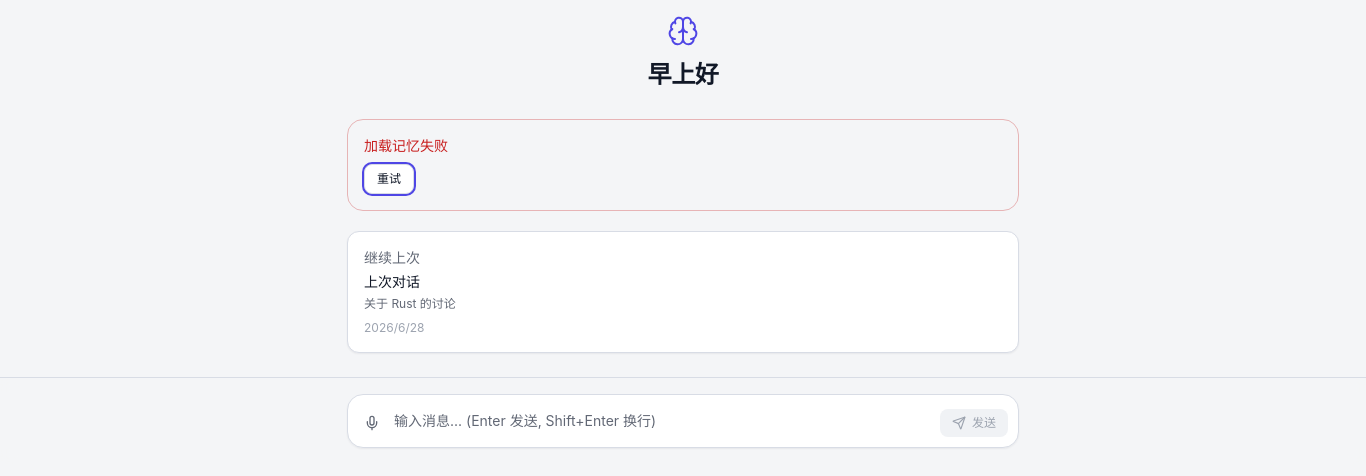
ChatHome › does not treat a failed insight read as an empty new user
Expected: the message with test id "chat-home-load-error" shows "加载记忆失败", [364,137,448,154]
Expected: the text "我还不太了解你" is not shown
Click the button "重试": (389, 179) [364,164,414,194]
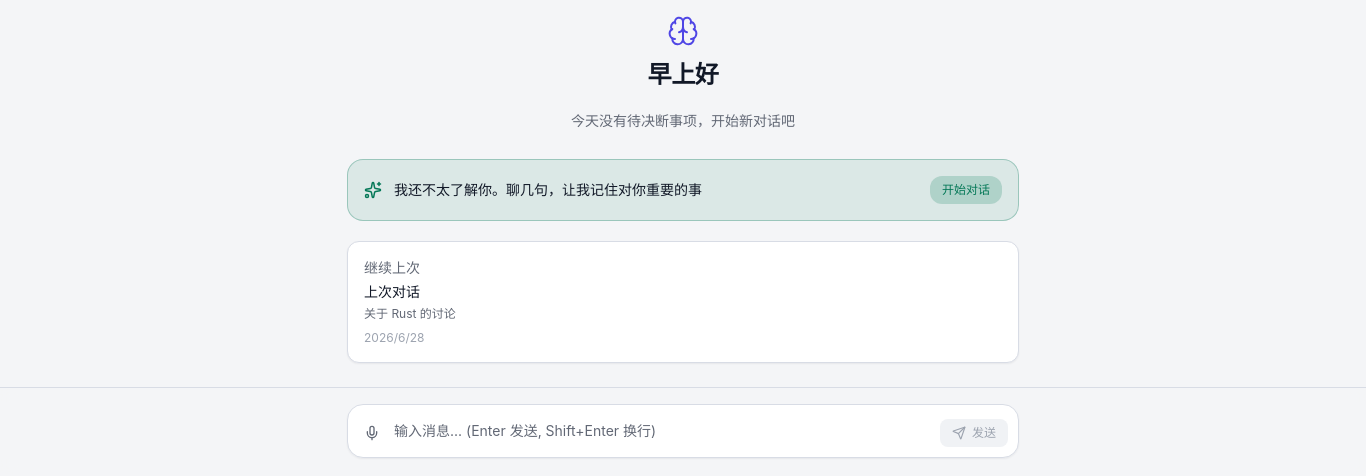
Now the text "我还不太了解你。聊几句，让我记住对你重要的事" is shown, box [394,181,702,198]
Now the text "今天没有待决断事项，开始新对话吧" is shown, box [571,112,795,129]
Now the message with test id "chat-home-load-error" is gone
